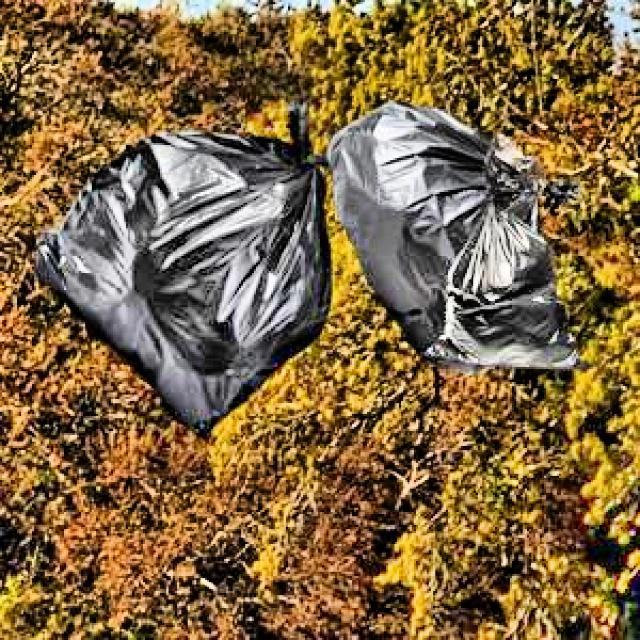Trashbag: (32, 118, 334, 448), (325, 94, 578, 370)
